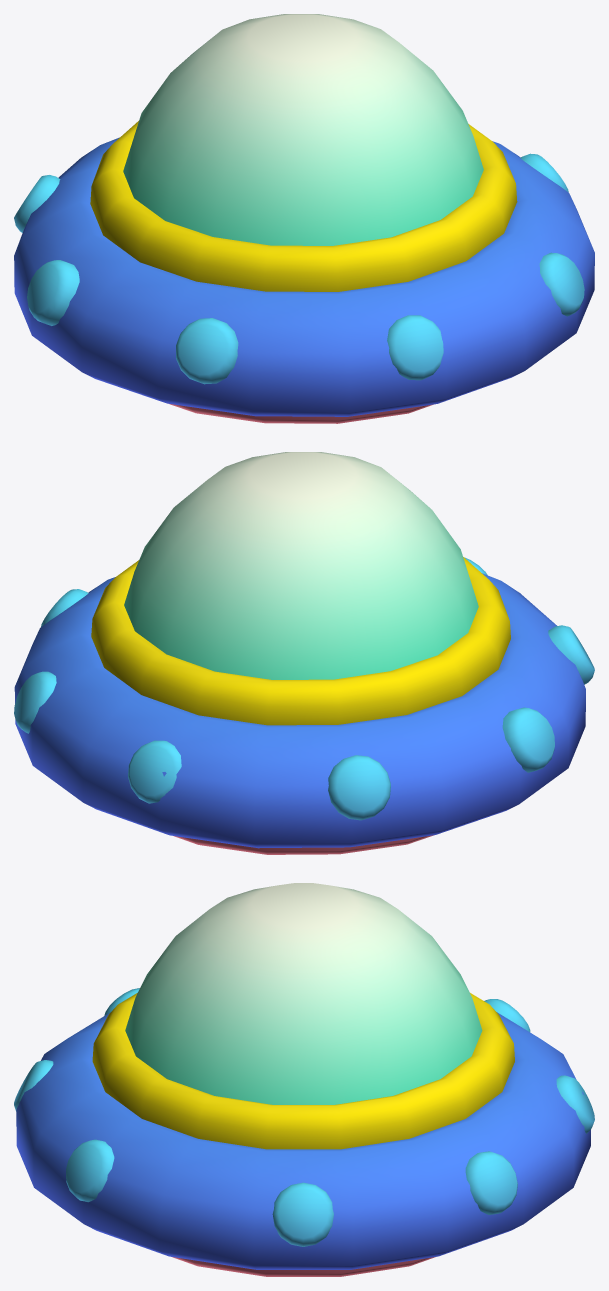
The model's file is diff_11.1.fbx.
3 renders of one model, top to bottom at view 1: azimuth 30°, elevation 25°; view 2: azimuth 150°, elevation 25°; view 3: azimuth 270°, elevation 25°, orthographic. The views are drawn at different scales.
Visible parts, largest first — view 1: Sphere.009; view 2: Sphere.009; view 3: Sphere.009.
Boxes of the visible parts, bbox=[...] form: Sphere.009: bbox=[14, 14, 594, 423]; Sphere.009: bbox=[14, 452, 594, 854]; Sphere.009: bbox=[14, 883, 594, 1276].
Size of the model in its own units: 622 by 342 by 621.
